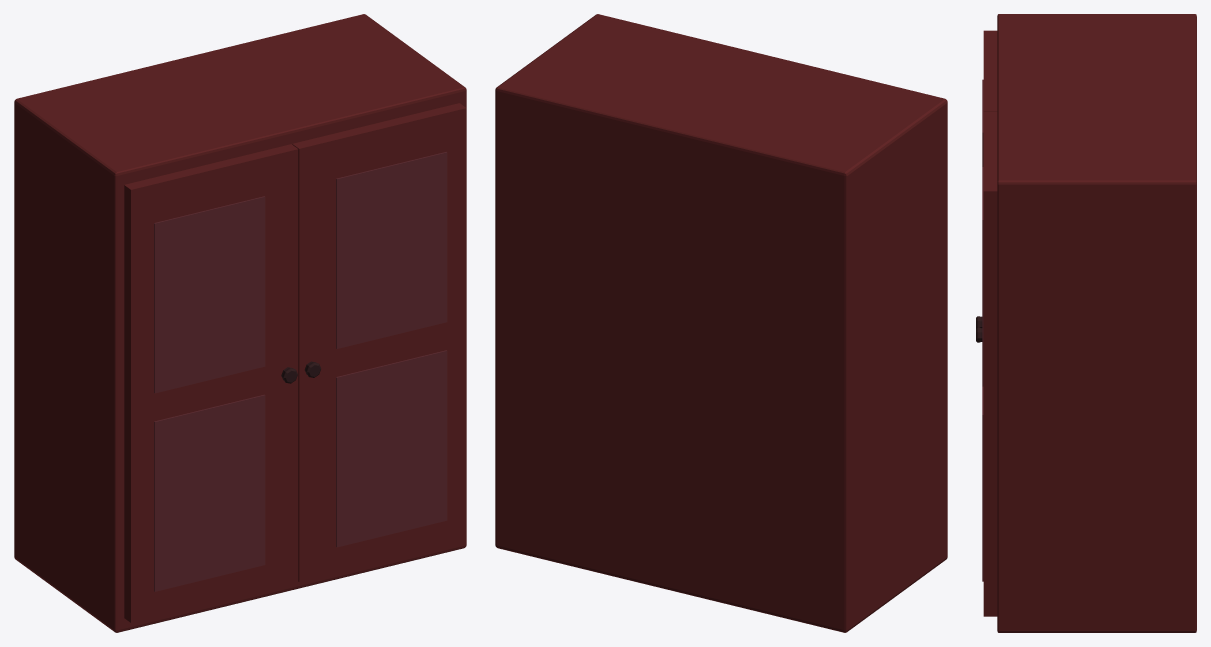
File: ArmarioEsconde 1.fbx
The picture shows the model from 3 angles, left to right: view 1: azimuth 30°, elevation 25°; view 2: azimuth 150°, elevation 25°; view 3: azimuth 270°, elevation 25°; orthographic projection.
Parts seen in each view (by area): view 1: Armario, Porta2, Porta1, DetalhePorta, DetalhePorta3, DetalhePorta4, DetalhePorta1; view 2: Armario; view 3: Armario, Porta1, Porta2, DetalhePorta1, DetalhePorta.
Part boxes in pixels (left/top/right/bottom): Armario: left=14, top=14, right=466, bottom=632; Porta2: left=124, top=144, right=298, bottom=622; Porta1: left=292, top=103, right=466, bottom=581; DetalhePorta: left=336, top=350, right=447, bottom=547; DetalhePorta3: left=154, top=196, right=265, bottom=393; DetalhePorta4: left=154, top=394, right=265, bottom=591; DetalhePorta1: left=336, top=152, right=447, bottom=348; Armario: left=495, top=14, right=947, bottom=632; Armario: left=997, top=14, right=1196, bottom=632; Porta1: left=983, top=111, right=997, bottom=616; Porta2: left=983, top=30, right=997, bottom=111; DetalhePorta1: left=982, top=167, right=983, bottom=386; DetalhePorta: left=982, top=386, right=983, bottom=581.
Bounding box in the file's own units: 200 × 250 × 111.
